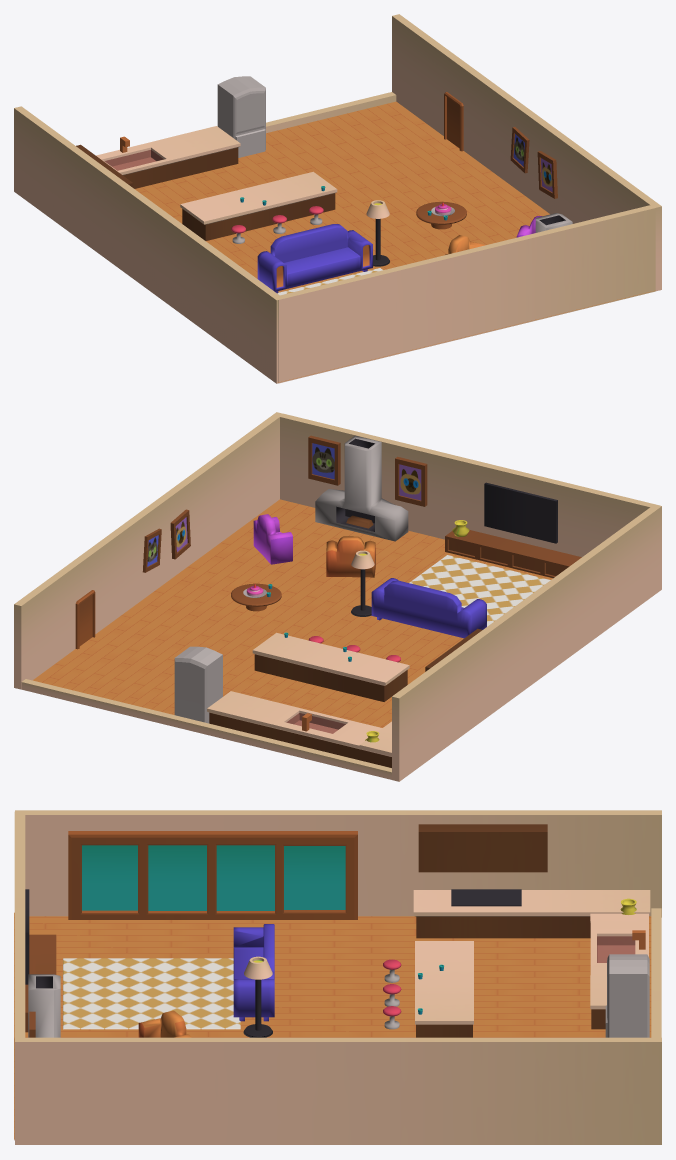
The model's file is room.fbx.
3 views of the same model, one above another, from view 1: azimuth 30°, elevation 25°; view 2: azimuth 150°, elevation 25°; view 3: azimuth 270°, elevation 25° (orthographic). The views are drawn at different scales.
Visible parts, largest first — view 1: wall3, floor, wall2, wall4, isle, couch, isle.001, fridge, wall1, door, table, painting1.001 (+2 smaller); view 2: floor, wall2, wall4, wall3, isle, isle.001, fireplace, wall1, couch, rug, tvfurniture, tv (+11 smaller); view 3: wall4, floor, wall2, window, rug, isle.002, Cube.014, isle, fridge, isle.001, couch, wall3 (+6 smaller).
Boxes of the visible parts, left/top/right/bottom form: wall3: left=278, top=205, right=655, bottom=383; floor: left=135, top=101, right=655, bottom=382; wall2: left=14, top=106, right=283, bottom=383; wall4: left=392, top=14, right=661, bottom=291; isle: left=180, top=171, right=337, bottom=240; couch: left=257, top=224, right=372, bottom=293; isle.001: left=96, top=126, right=240, bottom=188; fridge: left=217, top=76, right=265, bottom=157; wall1: left=266, top=92, right=396, bottom=133; door: left=444, top=92, right=463, bottom=151; table: left=416, top=201, right=466, bottom=229; painting1.001: left=537, top=151, right=557, bottom=198; floor: left=33, top=499, right=552, bottom=727; wall2: left=392, top=504, right=661, bottom=781; wall4: left=14, top=412, right=283, bottom=689; wall3: left=280, top=414, right=658, bottom=556; isle: left=252, top=632, right=409, bottom=701; isle.001: left=207, top=691, right=391, bottom=767; fireplace: left=315, top=435, right=408, bottom=541; wall1: left=21, top=679, right=391, bottom=779; couch: left=371, top=578, right=486, bottom=638; rug: left=409, top=555, right=550, bottom=626; tvfurniture: left=445, top=530, right=581, bottom=578; tv: left=484, top=482, right=557, bottom=543; wall4: left=15, top=1037, right=661, bottom=1144; floor: left=14, top=912, right=651, bottom=1139; wall2: left=15, top=810, right=661, bottom=917; window: left=68, top=831, right=357, bottom=919; rug: left=63, top=958, right=240, bottom=1029; isle.002: left=413, top=890, right=650, bottom=938; Cube.014: left=418, top=824, right=547, bottom=872; isle: left=415, top=941, right=473, bottom=1037; fridge: left=605, top=954, right=649, bottom=1037; isle.001: left=590, top=913, right=648, bottom=1029; couch: left=233, top=924, right=274, bottom=1021; wall3: left=14, top=812, right=25, bottom=1140.
Size of the model in its own units: 4862 by 1054 by 5749.
3 materials, 3 textured.
